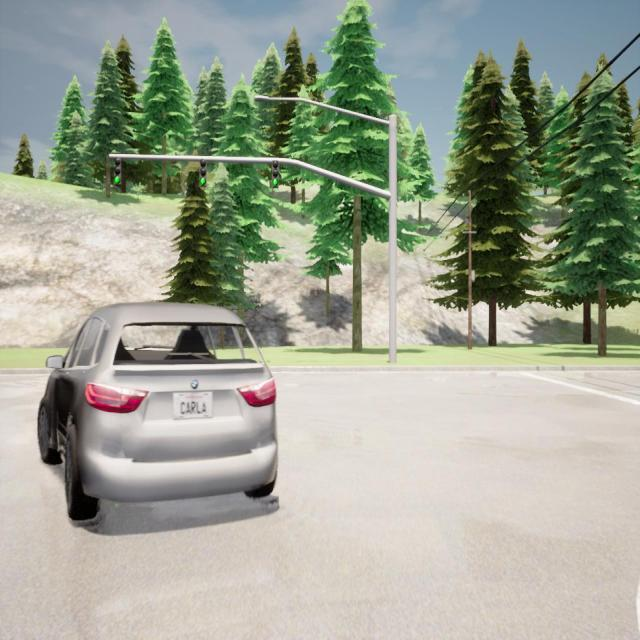Vehicle: (38, 302, 277, 520)
traffic_light: (113, 157, 122, 185), (200, 159, 207, 187), (272, 161, 279, 188)
